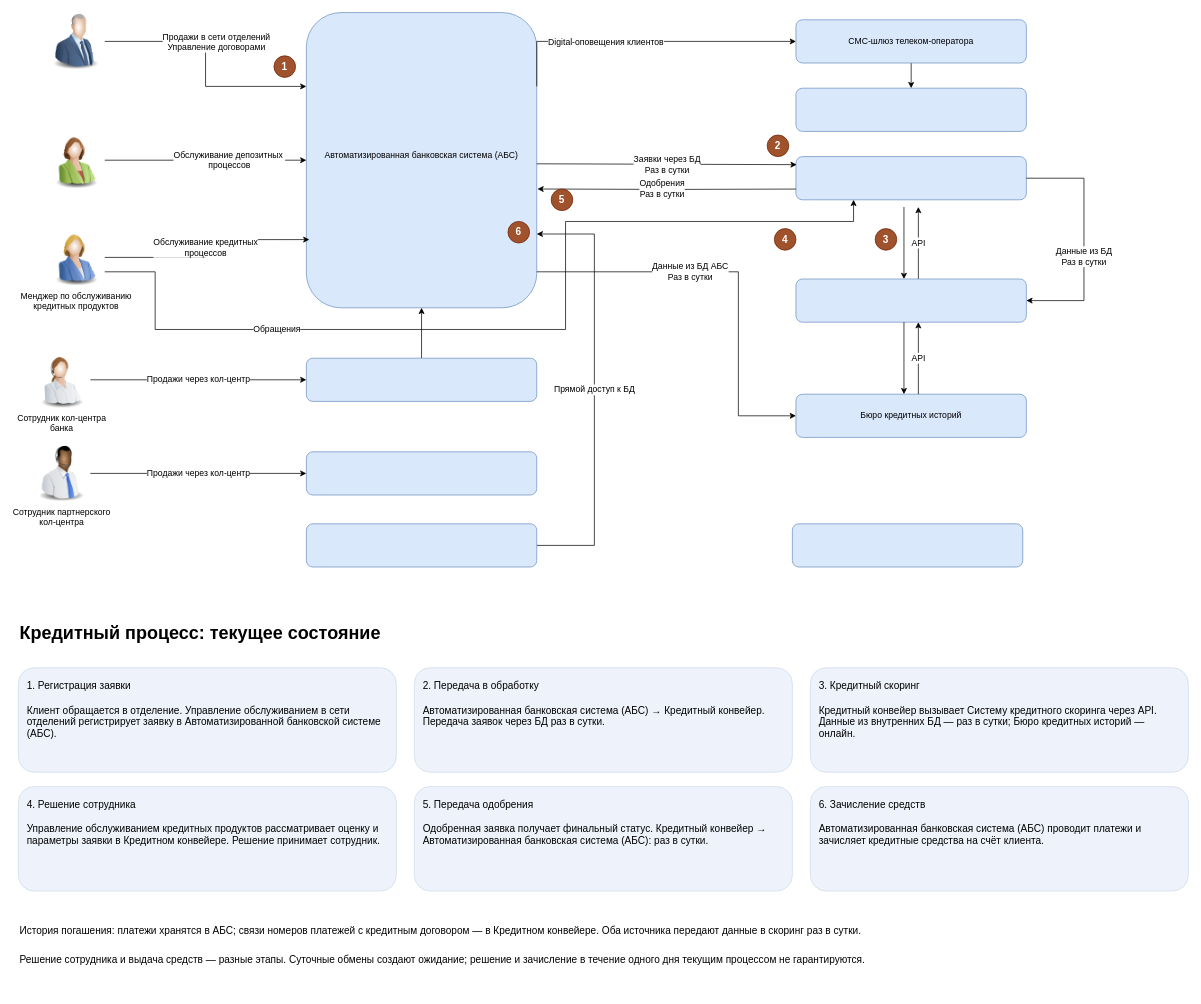
Image size: 1201x1004. Some labels were removed from this diagram. The centre of each missing label's shape, as x and y in pixels:
"Интернет-банк" belongs at (421,545).
"Кредитный конвейер" belongs at (910,178).
"Менеджер по обслуживанию депозитных продуктов" belongs at (75,160).
"Сайт" belongs at (907,545).
"Система кол-центра" belongs at (421,379).
"Система кредитного скоринга" belongs at (910,300).
"Система партнерского кол-центра" belongs at (421,473).
"Сотрудник отделения офиса" belongs at (75,41).
"Телеком-оператор" belongs at (910,109).
